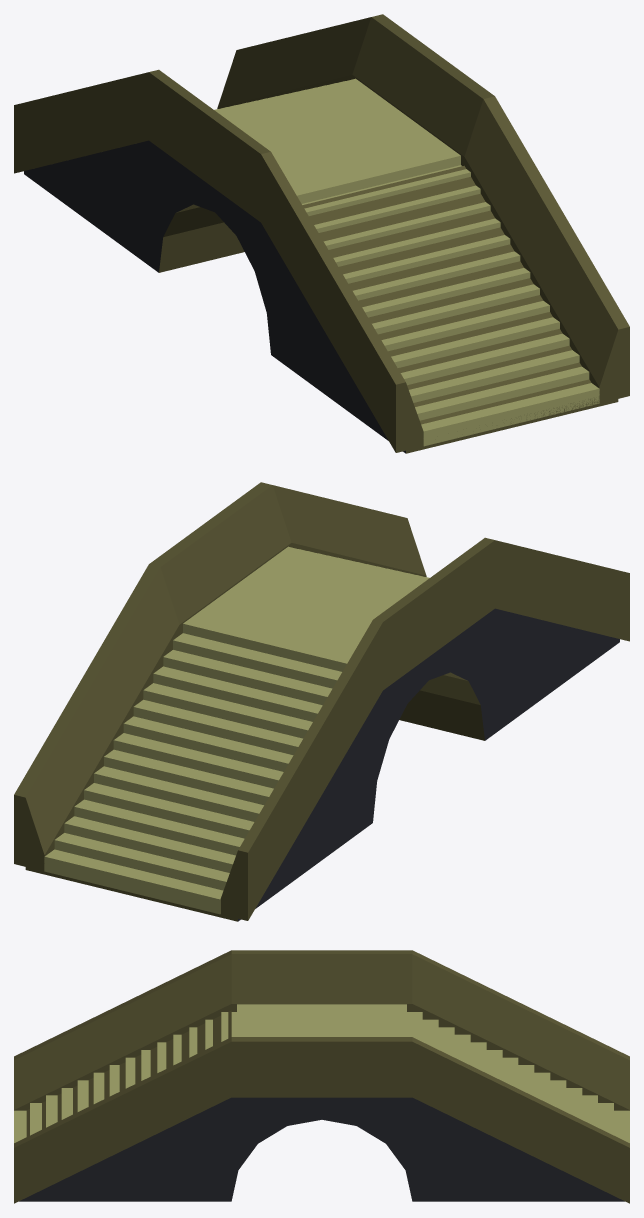
The model's file is bridge.fbx.
3 renders of one model, top to bottom at view 1: azimuth 30°, elevation 25°; view 2: azimuth 150°, elevation 25°; view 3: azimuth 270°, elevation 25°, orthographic. The views are drawn at different scales.
Parts seen in each view (by area): view 1: Circle.001; view 2: Circle.001; view 3: Circle.001.
Part boxes in pixels (x1=…): Circle.001: x1=14, y1=14, x2=629, y2=453; Circle.001: x1=14, y1=482, x2=629, y2=921; Circle.001: x1=14, y1=950, x2=629, y2=1203.
Size of the model in its own units: 241 by 201 by 681.
